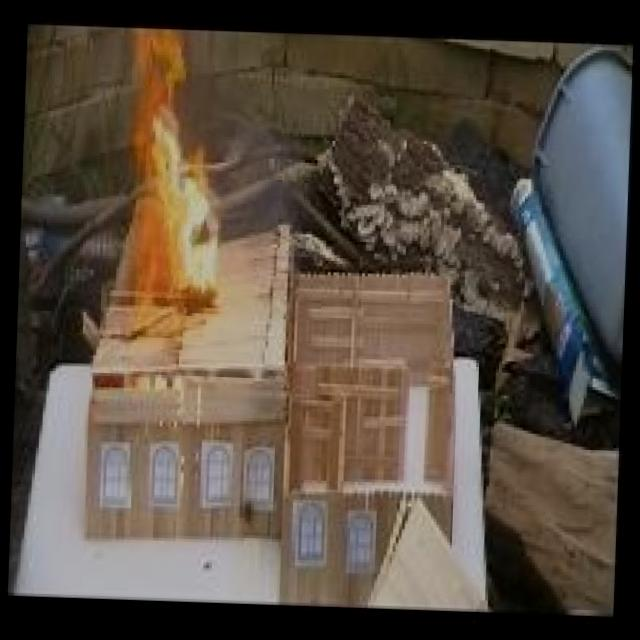fire: (98, 23, 272, 356)
